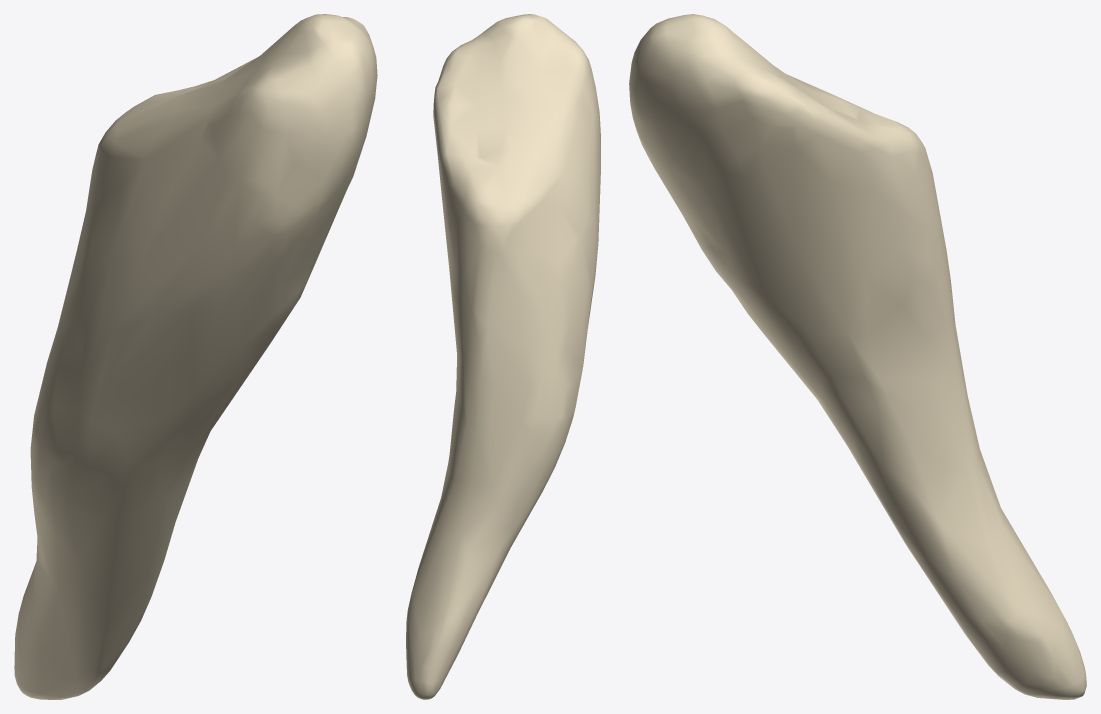
Rendered from tooth-33.glb.
3 views of the same model, side by side, from view 1: azimuth 30°, elevation 25°; view 2: azimuth 150°, elevation 25°; view 3: azimuth 270°, elevation 25° (orthographic). The views are drawn at different scales.
Parts seen in each view (by area): view 1: tooth-33; view 2: tooth-33; view 3: tooth-33.
Boxes of the visible parts, <box> form: tooth-33: <box>14,14,377,699</box>; tooth-33: <box>406,14,600,699</box>; tooth-33: <box>629,14,1086,699</box>.
Size of the model in its own units: 0.2154 by 0.6707 by 0.3899.
